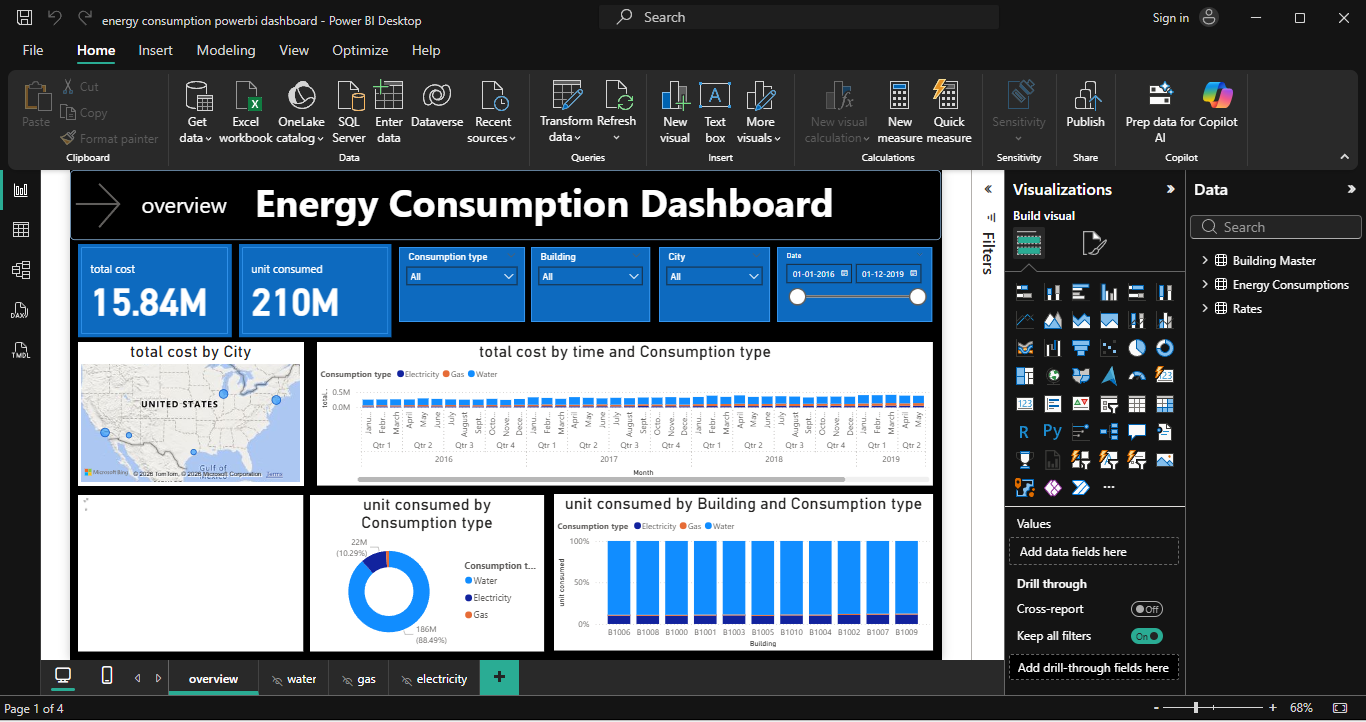

The dashboard page shown, as its layout file describes it:
{"tool":"powerbi","page":{"name":"overview","canvas":[1280,720],"ordinal":0},"visuals":[{"type":"textbox","box":[0,0,1279.5,102.7],"z":0},{"type":"cardVisual","fields":{"Data":["Energy Consumptions.total cost"]},"box":[11.6,108.4,225.5,137.3],"z":1000},{"type":"cardVisual","fields":{"Data":["Energy Consumptions.unit consumed"]},"box":[248.7,108.4,224.1,137.3],"z":2000},{"type":"slicer","fields":{"Values":["Energy Consumptions.Consumption type"]},"box":[482.9,112.8,185.1,109.9],"z":3000},{"type":"slicer","fields":{"Values":["Building Master.Building"]},"box":[678.1,112.8,174.9,109.9],"z":4000},{"type":"slicer","fields":{"Values":["Building Master.City"]},"box":[866,112.8,163.4,109.9],"z":5000},{"type":"slicer","fields":{"Values":["Energy Consumptions.Date"]},"box":[1039.5,112.8,228.4,109.9],"z":6000},{"type":"map","fields":{"Category":["Building Master.City"],"Size":["Energy Consumptions.total cost"]},"box":[11.6,253,331.1,211.1],"z":7000},{"type":"columnChart","title":"total cost by time and Consumption type","fields":{"Y":["Energy Consumptions.total cost"],"Category":["Energy Consumptions.Date.Variation.Date Hierarchy.Year","Energy Consumptions.Date.Variation.Date Hierarchy.Quarter","Energy Consumptions.Date.Variation.Date Hierarchy.Month"],"Series":["Energy Consumptions.Consumption type"]},"box":[362.9,253,905.1,211.1],"z":8000},{"type":"textbox","box":[11.6,477.1,331.1,229.9],"z":9000},{"type":"donutChart","fields":{"Y":["Energy Consumptions.unit consumed"],"Category":["Energy Consumptions.Consumption type"]},"box":[352.8,477.1,344.1,229.9],"z":10000},{"type":"hundredPercentStackedColumnChart","fields":{"Y":["Energy Consumptions.unit consumed"],"Category":["Energy Consumptions.Building"],"Series":["Energy Consumptions.Consumption type"]},"box":[711.4,475.7,557.1,230],"z":11000},{"type":"textbox","box":[99.8,23.1,148.9,57.8],"z":12000},{"type":"actionButton","box":[0,11.6,99.8,81],"z":14000}]}

Visuals, with their boxes on the page's 1280x720 design canvas (x1, y1, x2, y2). These are canvas units, not pixel positions in the 1366x722 screenshot, which may show the page scaled, cropped or inside an application window:
textbox: bbox=[0, 0, 1280, 103]
cardVisual - Energy Consumptions.total cost: bbox=[12, 108, 237, 246]
cardVisual - Energy Consumptions.unit consumed: bbox=[249, 108, 473, 246]
slicer - Energy Consumptions.Consumption type: bbox=[483, 113, 668, 223]
slicer - Building Master.Building: bbox=[678, 113, 853, 223]
slicer - Building Master.City: bbox=[866, 113, 1029, 223]
slicer - Energy Consumptions.Date: bbox=[1040, 113, 1268, 223]
map - Building Master.City x Energy Consumptions.total cost: bbox=[12, 253, 343, 464]
"total cost by time and Consumption type" columnChart: bbox=[363, 253, 1268, 464]
textbox: bbox=[12, 477, 343, 707]
donutChart - Energy Consumptions.unit consumed x Energy Consumptions.Consumption type: bbox=[353, 477, 697, 707]
hundredPercentStackedColumnChart - Energy Consumptions.unit consumed x Energy Consumptions.Building: bbox=[711, 476, 1268, 706]
textbox: bbox=[100, 23, 249, 81]
actionButton: bbox=[0, 12, 100, 93]
